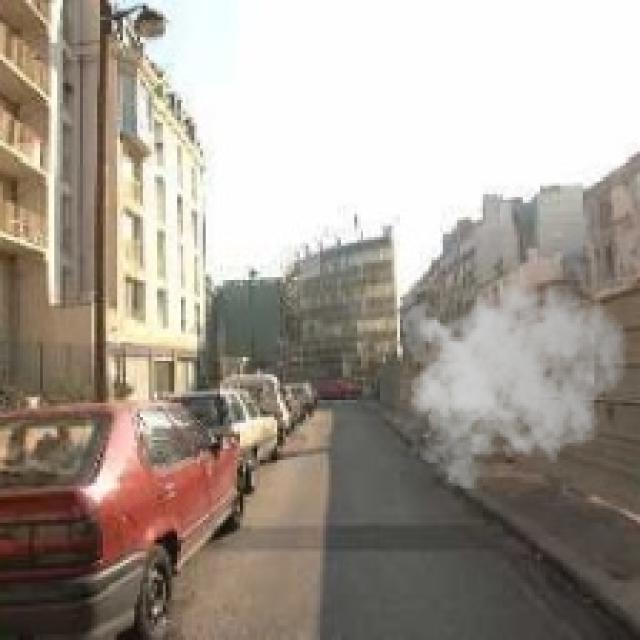smoke: (394, 260, 629, 489)
